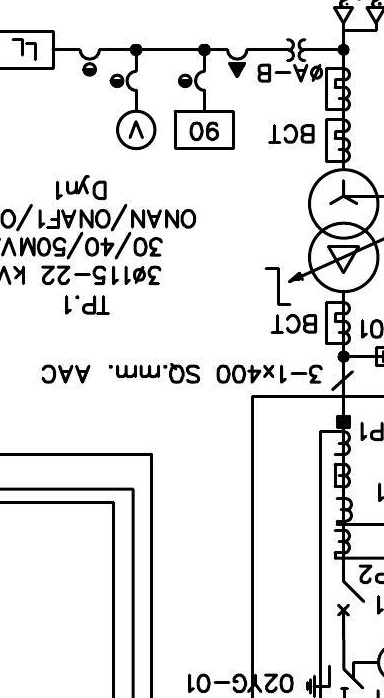11522_tx_dyn1: (307, 167, 380, 294)
115_breaker: (336, 580, 366, 617)
v_m: (115, 109, 158, 151)
